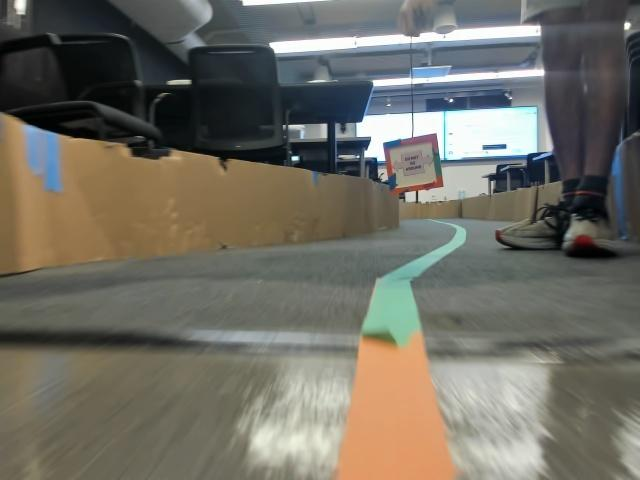Do Not Go Around: (391, 155, 431, 176)
